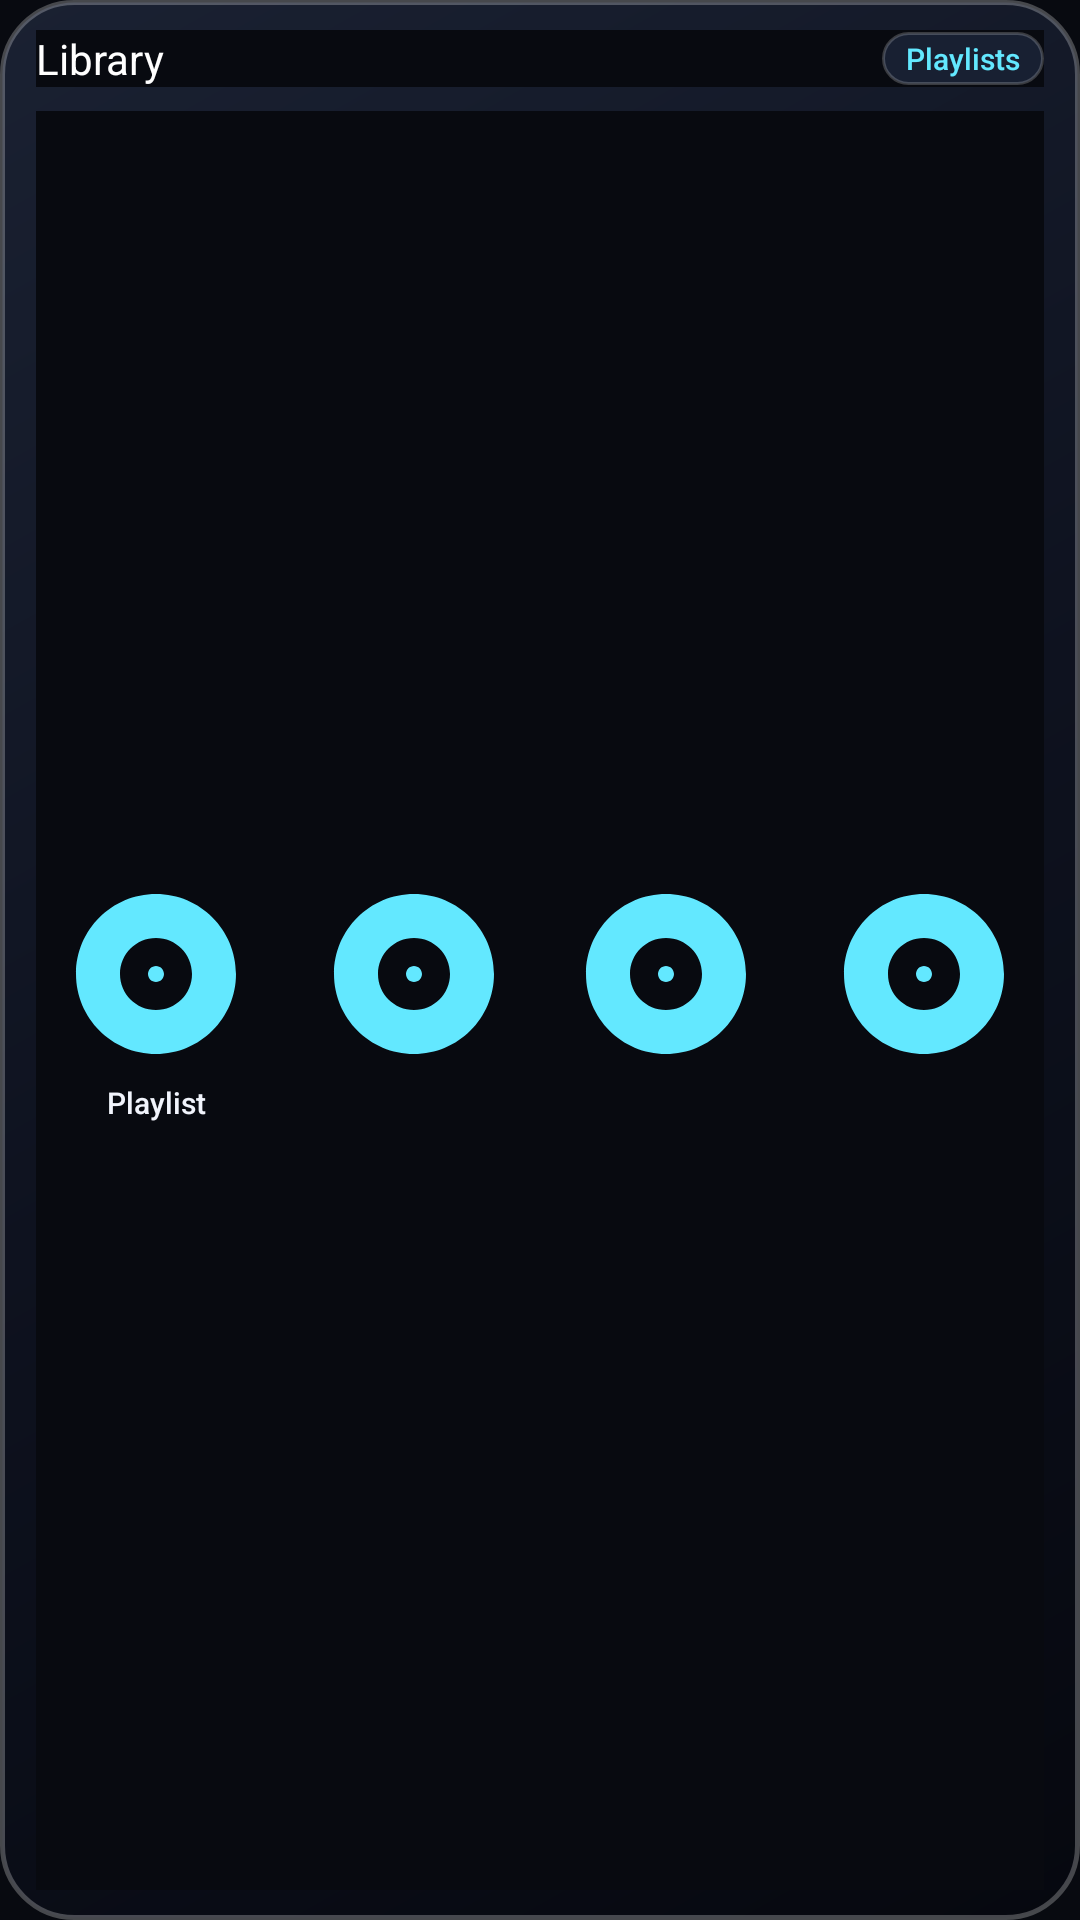

Where icons sit on this 1080w x 1920h app screen, as {"x1": x1, "y1": y1, "x2": x2, "y2": y2}:
widget disc: {"x1": 76, "y1": 894, "x2": 236, "y2": 1054}, {"x1": 334, "y1": 894, "x2": 494, "y2": 1054}, {"x1": 586, "y1": 894, "x2": 746, "y2": 1054}, {"x1": 844, "y1": 894, "x2": 1004, "y2": 1054}
